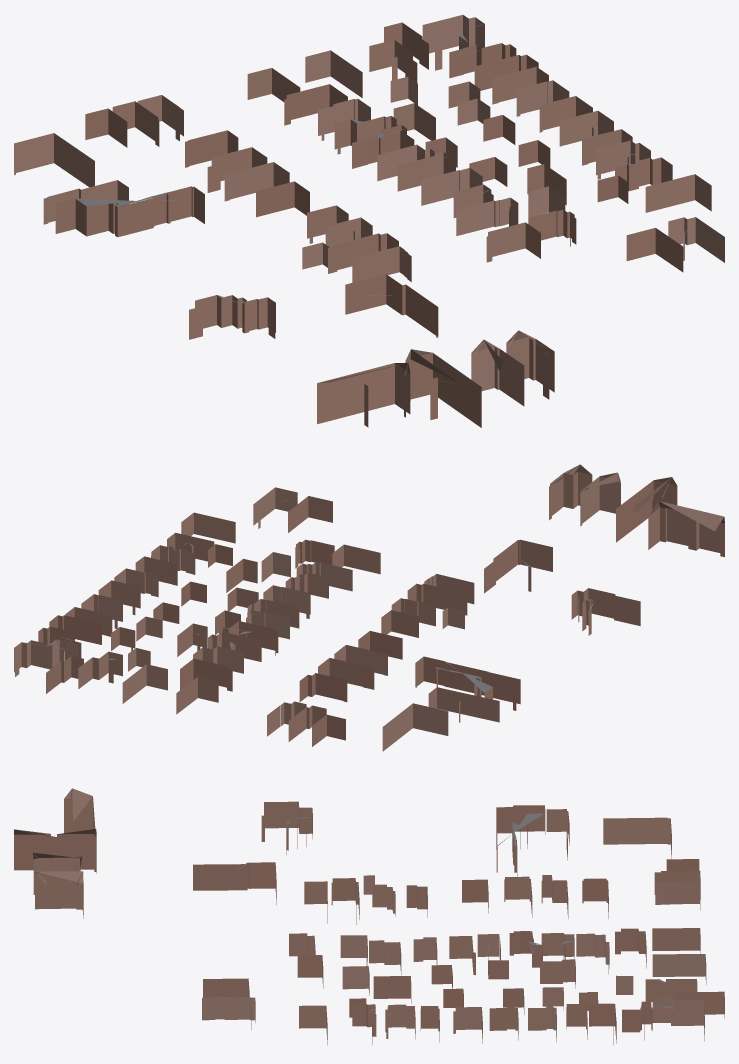
The model's file is c_1639_17826_buildings_residential.glb.
3 views of the same model, one above another, from view 1: azimuth 30°, elevation 25°; view 2: azimuth 150°, elevation 25°; view 3: azimuth 270°, elevation 25° (orthographic). The views are drawn at different scales.
Visible parts, largest first — view 1: geometry_0; view 2: geometry_0; view 3: geometry_0.
Boxes of the visible parts, bbox=[...] form: geometry_0: bbox=[14, 15, 724, 427]; geometry_0: bbox=[14, 464, 724, 751]; geometry_0: bbox=[14, 788, 724, 1045].
Bounding box in the file's own units: 200 × 18.36 × 270.
